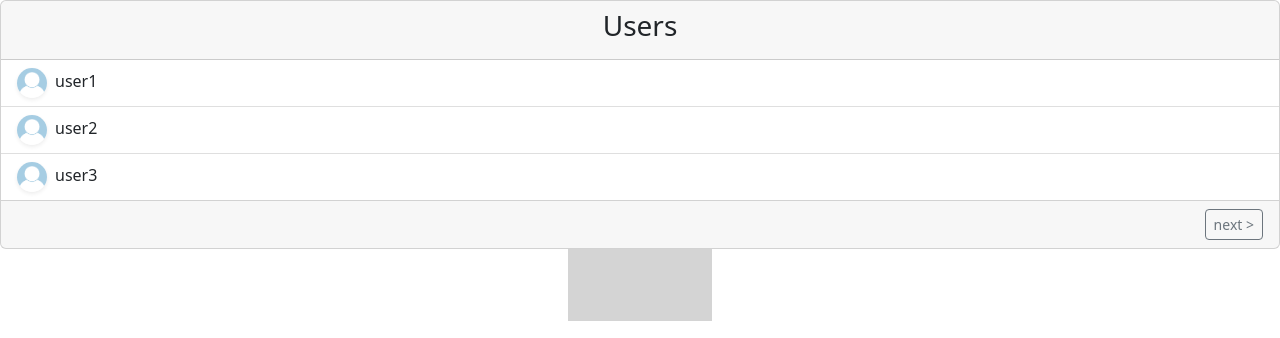
Test: User List › Interactions › hides next page link at last page
Check: the list item "user1" is shown, box [1,60,1279,107]
Click the button "next >" at (1234, 224), box [1205,209,1263,240]
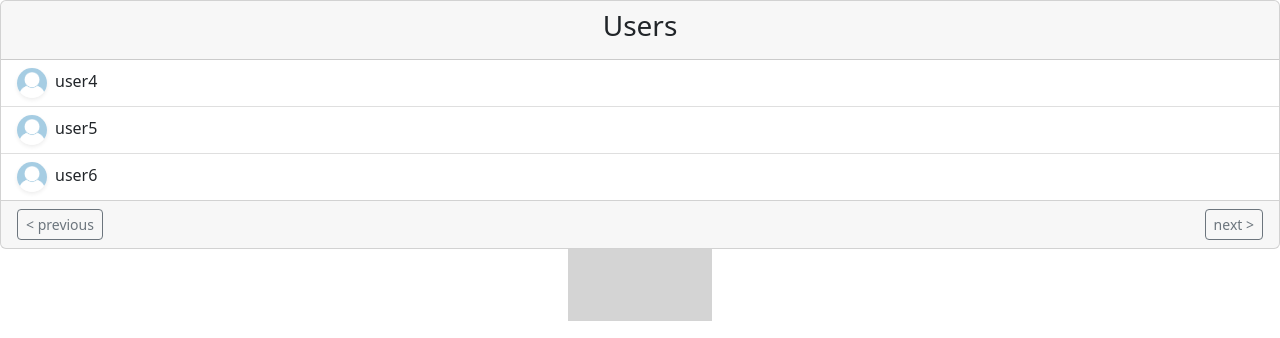
Check: the list item "user4" is shown, box [1,60,1279,107]
Click the button "next >" at (1234, 224), box [1205,209,1263,240]
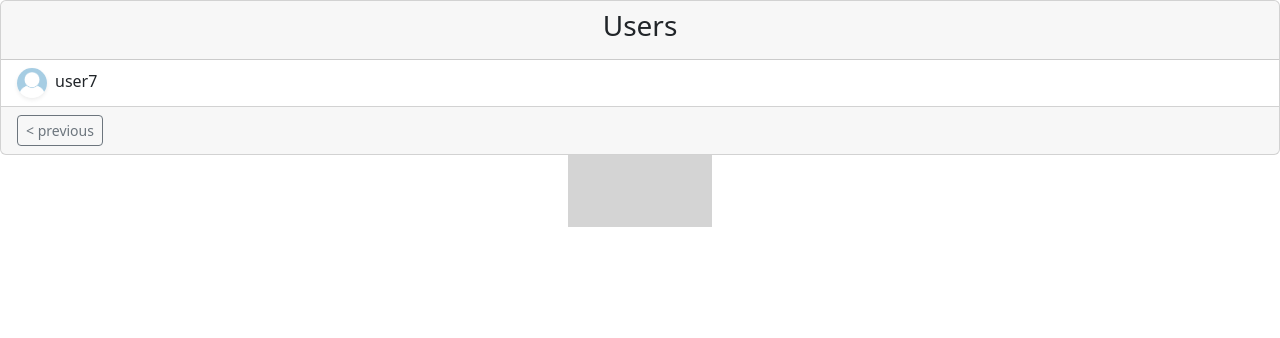
Check: the list item "user7" is shown, box [1,60,1279,106]
Check: the button "next >" is gone
